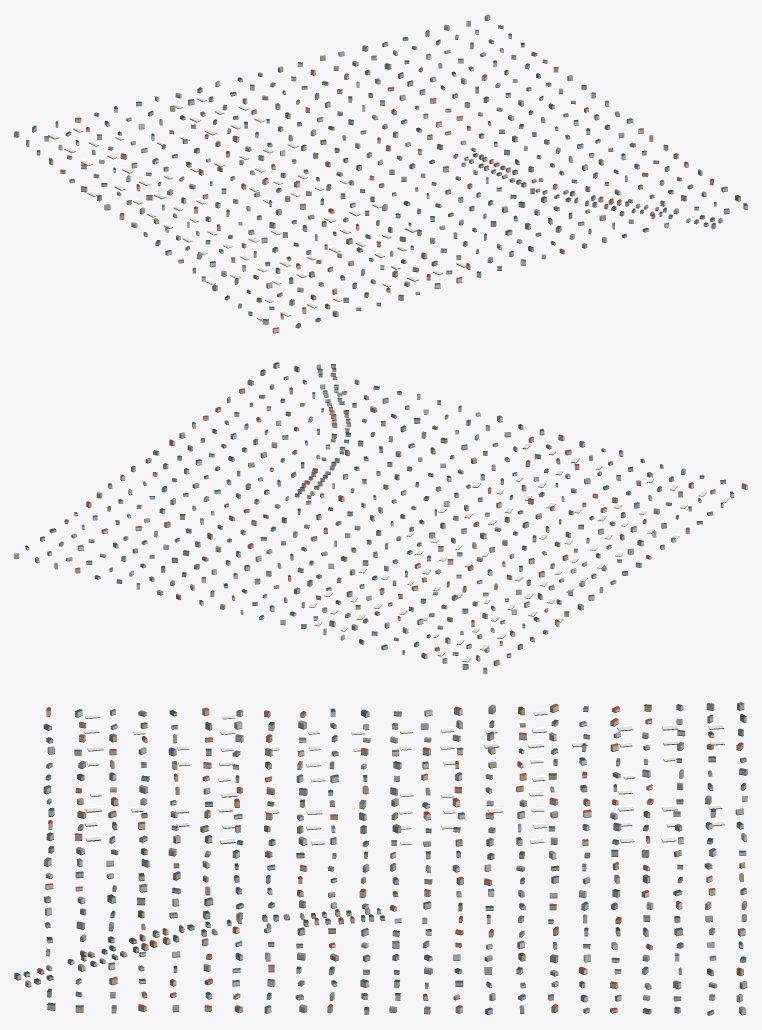
The model's file is buildings_T_W01_N01.glb.
The picture shows the model from 3 angles, top to bottom: view 1: azimuth 30°, elevation 25°; view 2: azimuth 150°, elevation 25°; view 3: azimuth 270°, elevation 25°; orthographic projection. The views are drawn at different scales.
Parts seen in each view (by area): view 1: T_W01_N01_slope_seating_foundations, T_W01_N01_walls_wall_pastel_sand_gray, T_W01_N01_roofs_agri_greenhouse_arch, T_W01_N01_walls_wall_dalat_cream_stucco, T_W01_N01_walls_wall_modern_warm_white, T_W01_N01_walls_wall_french_ochre_villa, T_W01_N01_roofs_roof_zinc_silver_gable, T_W01_N01_roofs_roof_highland_blue_gable, T_W01_N01_roofs_roof_pine_green_hip, T_W01_N01_roofs_roof_terracotta_gable, T_W01_N01_roofs_roof_commercial_flat_parapet; view 2: T_W01_N01_slope_seating_foundations, T_W01_N01_walls_wall_pastel_sand_gray, T_W01_N01_walls_wall_dalat_cream_stucco, T_W01_N01_roofs_agri_greenhouse_arch, T_W01_N01_walls_wall_modern_warm_white, T_W01_N01_walls_wall_french_ochre_villa, T_W01_N01_roofs_roof_zinc_silver_gable, T_W01_N01_roofs_roof_highland_blue_gable, T_W01_N01_roofs_roof_pine_green_hip, T_W01_N01_roofs_roof_terracotta_gable, T_W01_N01_roofs_roof_commercial_flat_parapet; view 3: T_W01_N01_slope_seating_foundations, T_W01_N01_roofs_agri_greenhouse_arch, T_W01_N01_walls_wall_pastel_sand_gray, T_W01_N01_walls_wall_dalat_cream_stucco, T_W01_N01_walls_wall_modern_warm_white, T_W01_N01_walls_wall_french_ochre_villa, T_W01_N01_roofs_roof_zinc_silver_gable, T_W01_N01_roofs_roof_highland_blue_gable, T_W01_N01_roofs_roof_pine_green_hip, T_W01_N01_roofs_roof_terracotta_gable, T_W01_N01_roofs_roof_commercial_flat_parapet.
Boxes of the visible parts, x1=… form: T_W01_N01_slope_seating_foundations: x1=14, y1=19, x2=747, y2=333; T_W01_N01_walls_wall_pastel_sand_gray: x1=14, y1=25, x2=729, y2=321; T_W01_N01_roofs_agri_greenhouse_arch: x1=48, y1=96, x2=466, y2=320; T_W01_N01_walls_wall_dalat_cream_stucco: x1=36, y1=16, x2=747, y2=315; T_W01_N01_walls_wall_modern_warm_white: x1=58, y1=30, x2=708, y2=332; T_W01_N01_walls_wall_french_ochre_villa: x1=26, y1=32, x2=740, y2=327; T_W01_N01_roofs_roof_zinc_silver_gable: x1=58, y1=14, x2=722, y2=312; T_W01_N01_roofs_roof_highland_blue_gable: x1=37, y1=33, x2=716, y2=325; T_W01_N01_roofs_roof_pine_green_hip: x1=32, y1=25, x2=747, y2=320; T_W01_N01_roofs_roof_terracotta_gable: x1=60, y1=30, x2=713, y2=329; T_W01_N01_roofs_roof_commercial_flat_parapet: x1=14, y1=29, x2=727, y2=308; T_W01_N01_slope_seating_foundations: x1=14, y1=367, x2=747, y2=673; T_W01_N01_walls_wall_pastel_sand_gray: x1=25, y1=367, x2=715, y2=673; T_W01_N01_walls_wall_dalat_cream_stucco: x1=14, y1=363, x2=723, y2=660; T_W01_N01_roofs_agri_greenhouse_arch: x1=309, y1=442, x2=729, y2=661; T_W01_N01_walls_wall_modern_warm_white: x1=47, y1=369, x2=747, y2=655; T_W01_N01_walls_wall_french_ochre_villa: x1=75, y1=370, x2=725, y2=665; T_W01_N01_roofs_roof_zinc_silver_gable: x1=14, y1=364, x2=685, y2=649; T_W01_N01_roofs_roof_highland_blue_gable: x1=41, y1=364, x2=725, y2=654; T_W01_N01_roofs_roof_pine_green_hip: x1=25, y1=362, x2=733, y2=665; T_W01_N01_roofs_roof_terracotta_gable: x1=64, y1=373, x2=746, y2=655; T_W01_N01_roofs_roof_commercial_flat_parapet: x1=47, y1=379, x2=712, y2=669; T_W01_N01_slope_seating_foundations: x1=14, y1=709, x2=747, y2=1015; T_W01_N01_roofs_agri_greenhouse_arch: x1=83, y1=709, x2=724, y2=844; T_W01_N01_walls_wall_pastel_sand_gray: x1=34, y1=704, x2=747, y2=1015; T_W01_N01_walls_wall_dalat_cream_stucco: x1=14, y1=705, x2=747, y2=1014; T_W01_N01_walls_wall_modern_warm_white: x1=23, y1=708, x2=747, y2=1013; T_W01_N01_walls_wall_french_ochre_villa: x1=43, y1=704, x2=746, y2=1012; T_W01_N01_roofs_roof_zinc_silver_gable: x1=25, y1=704, x2=747, y2=1009; T_W01_N01_roofs_roof_highland_blue_gable: x1=14, y1=704, x2=747, y2=1010; T_W01_N01_roofs_roof_pine_green_hip: x1=24, y1=704, x2=746, y2=1012; T_W01_N01_roofs_roof_terracotta_gable: x1=37, y1=704, x2=743, y2=1010; T_W01_N01_roofs_roof_commercial_flat_parapet: x1=44, y1=702, x2=746, y2=1010.
Size of the model in its own units: 1828 by 56.47 by 1817.
